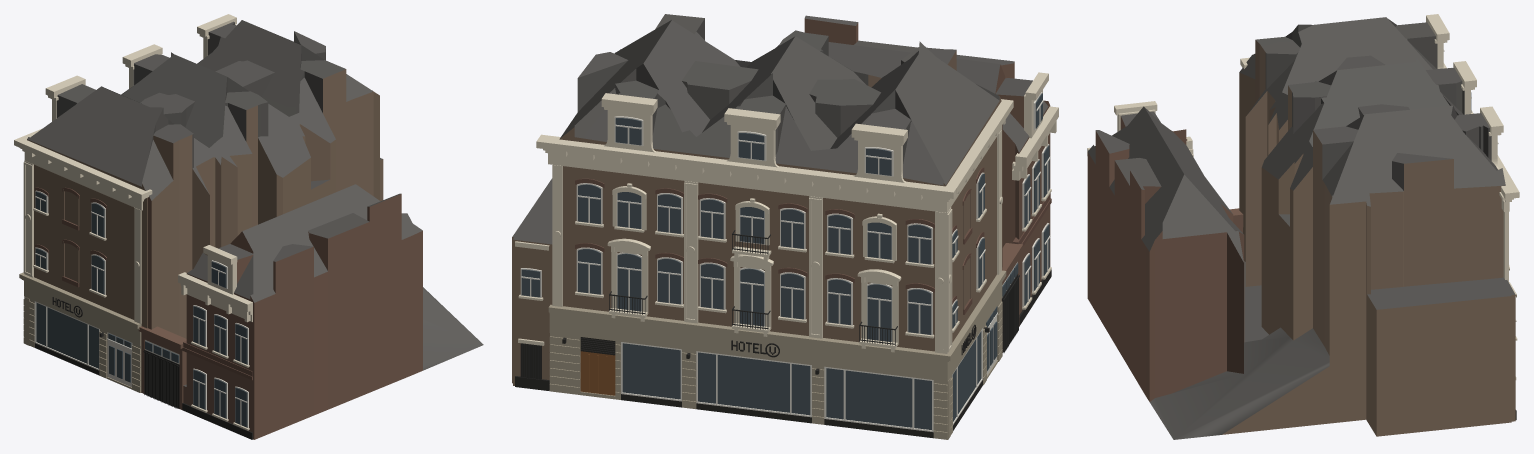
Rendered from hotel-v-frederiksplein.glb.
3 views of the same model, side by side, from view 1: azimuth 30°, elevation 25°; view 2: azimuth 150°, elevation 25°; view 3: azimuth 270°, elevation 25° (orthographic). The views are drawn at different scales.
Parts seen in each view (by area): view 1: hotel-v-frederiksplein; view 2: hotel-v-frederiksplein; view 3: hotel-v-frederiksplein.
Boxes of the visible parts, bbox=[...] form: hotel-v-frederiksplein: bbox=[14, 14, 483, 439]; hotel-v-frederiksplein: bbox=[512, 14, 1058, 439]; hotel-v-frederiksplein: bbox=[1087, 14, 1519, 439].
Bounding box in the file's own units: 26.51 × 18.7 × 26.34.
